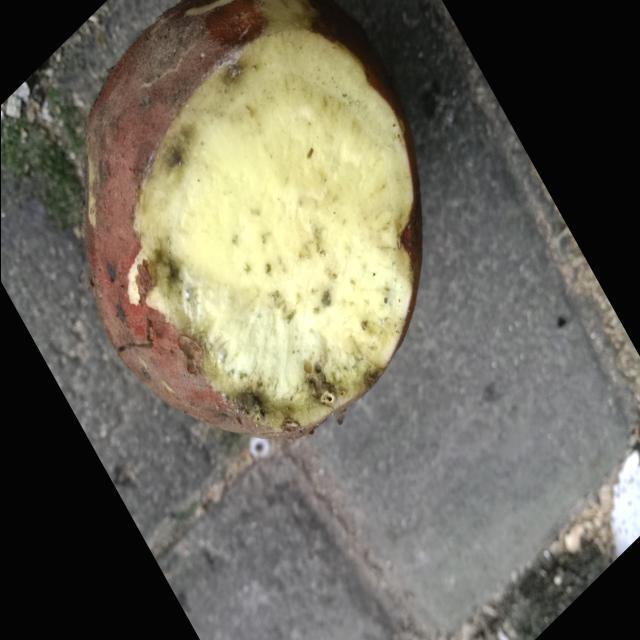Sick Sweet Potato_Tuber Rot: (134, 2, 420, 432)
